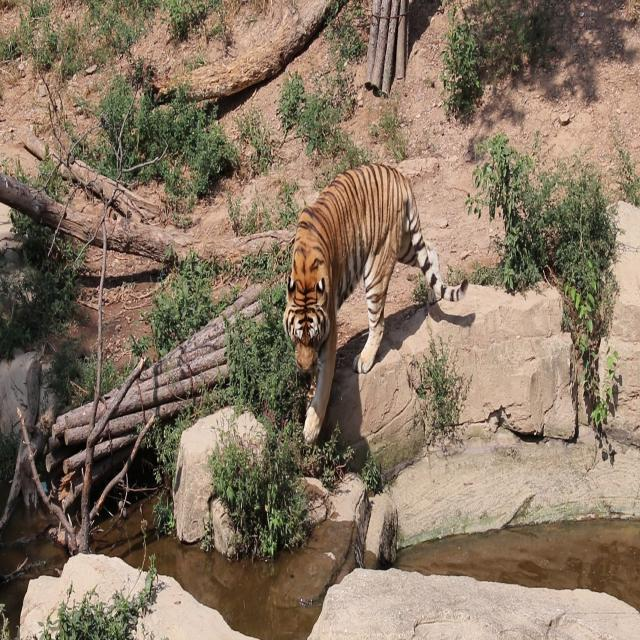Tiger: (272, 135, 474, 471)
